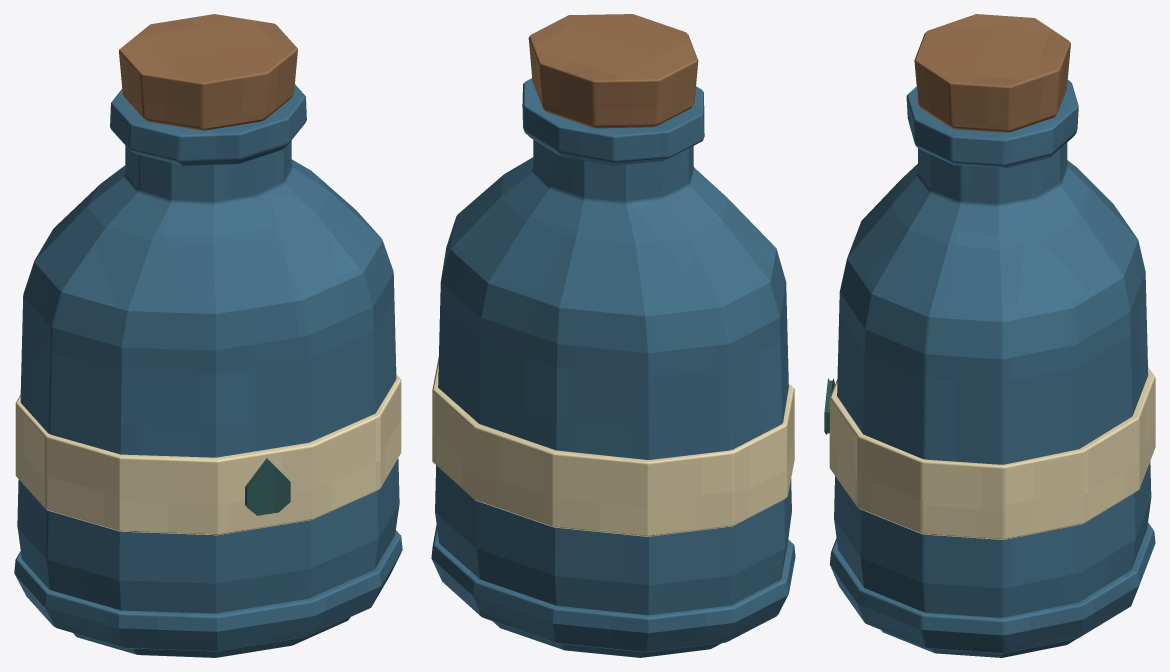
File: BayWashBottle.glb
3 views of the same model, side by side, from view 1: azimuth 30°, elevation 25°; view 2: azimuth 150°, elevation 25°; view 3: azimuth 270°, elevation 25° (orthographic).
Visible parts, largest first — view 1: BayWashBottle.Vessel, BayWashBottle.Body-band, BayWashBottle.Stopper, BayWashBottle.Foot, BayWashBottle.Neck-lip, BayWashBottle.Drop-seal; view 2: BayWashBottle.Vessel, BayWashBottle.Body-band, BayWashBottle.Stopper, BayWashBottle.Foot, BayWashBottle.Neck-lip; view 3: BayWashBottle.Vessel, BayWashBottle.Body-band, BayWashBottle.Stopper, BayWashBottle.Foot, BayWashBottle.Neck-lip.
Part boxes in pixels (x1,y1,x2,y2): BayWashBottle.Vessel: (17, 140, 399, 657); BayWashBottle.Body-band: (15, 374, 401, 535); BayWashBottle.Stopper: (119, 14, 297, 130); BayWashBottle.Foot: (14, 530, 402, 651); BayWashBottle.Neck-lip: (110, 84, 306, 165); BayWashBottle.Drop-seal: (245, 458, 290, 515); BayWashBottle.Vessel: (435, 140, 791, 657); BayWashBottle.Body-band: (432, 356, 794, 536); BayWashBottle.Stopper: (528, 14, 698, 128); BayWashBottle.Foot: (431, 525, 795, 652); BayWashBottle.Neck-lip: (522, 78, 704, 165); BayWashBottle.Vessel: (834, 142, 1151, 657); BayWashBottle.Body-band: (829, 367, 1155, 539); BayWashBottle.Stopper: (914, 14, 1070, 132); BayWashBottle.Foot: (829, 522, 1155, 653); BayWashBottle.Neck-lip: (906, 80, 1078, 168).
Size of the model in its own units: 0.2816 by 0.4389 by 0.242.
Materials: 4 (4 with a texture image).
